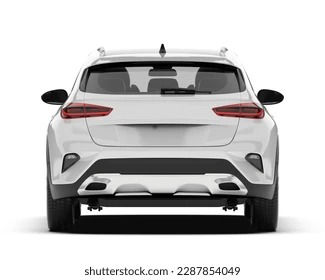car: (34, 50, 289, 226)
